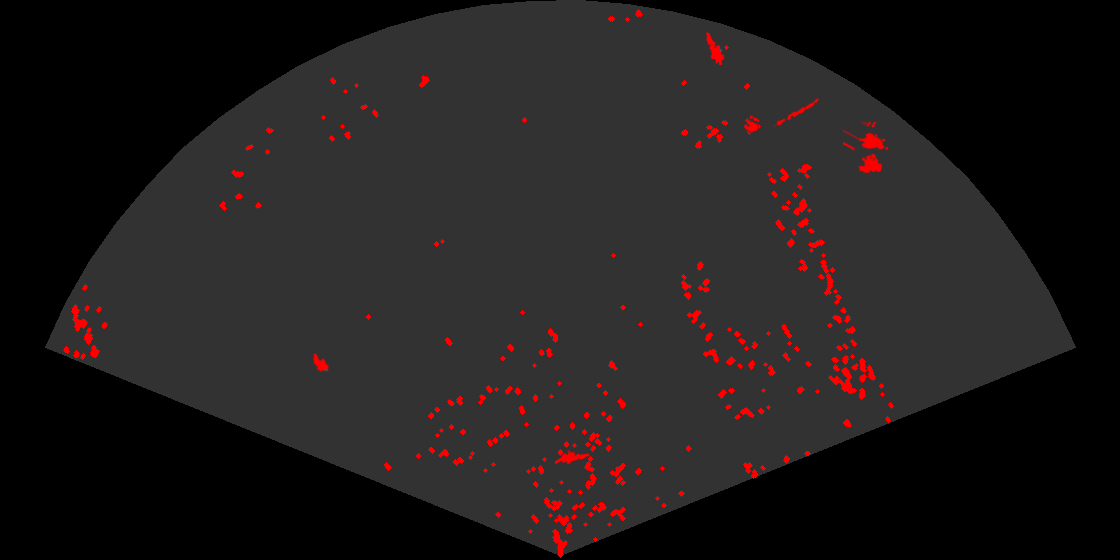AUV: (312, 352, 331, 374)
ball: (742, 114, 761, 134)
cage: (843, 122, 890, 175)
chain: (774, 95, 826, 128)
frogman: (705, 31, 726, 65), (555, 448, 590, 466)
